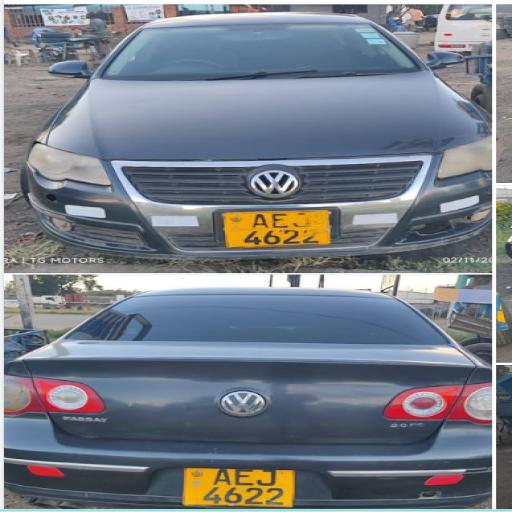number-plates: (220, 209, 334, 248), (190, 466, 295, 508)
